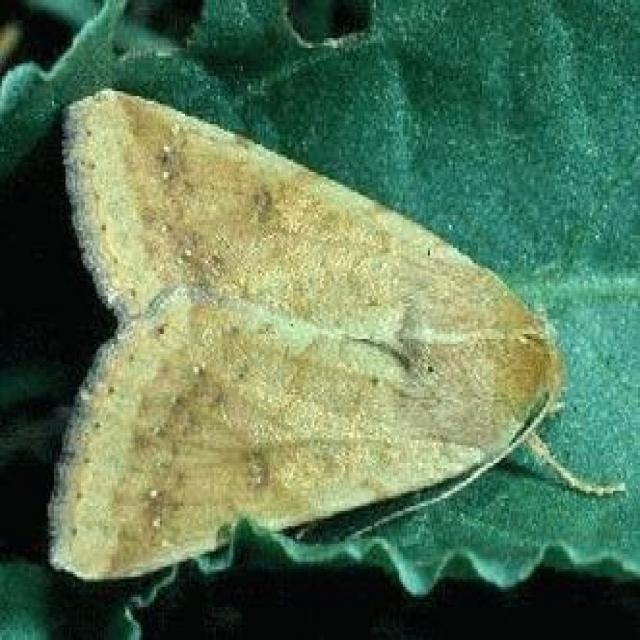army worm: (47, 73, 581, 592)
